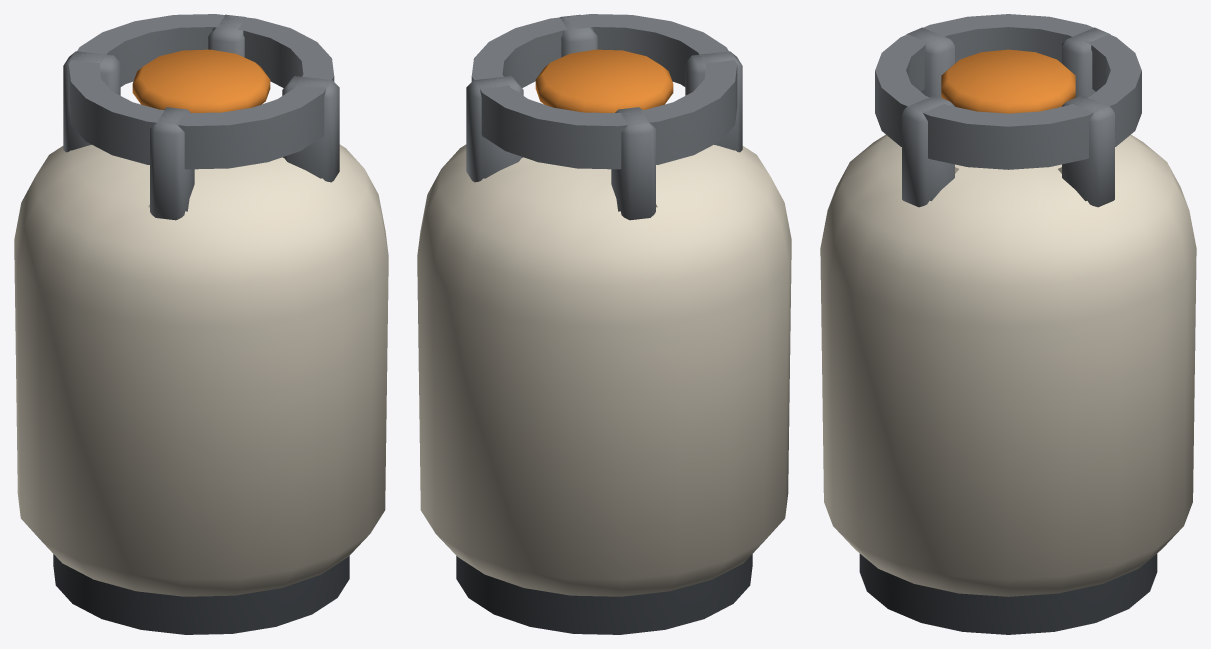
Rendered from SM_PropaneTank_01.glb.
The picture shows the model from 3 angles, left to right: view 1: azimuth 30°, elevation 25°; view 2: azimuth 150°, elevation 25°; view 3: azimuth 270°, elevation 25°; orthographic projection.
Visible parts, largest first — view 1: SM_PropaneTank_01; view 2: SM_PropaneTank_01; view 3: SM_PropaneTank_01.
Part boxes in pixels (x1,y1,x2,y2): SM_PropaneTank_01: [14, 14, 388, 634]; SM_PropaneTank_01: [417, 14, 791, 634]; SM_PropaneTank_01: [820, 14, 1196, 634].
Bounding box in the file's own units: 0.316 × 0.465 × 0.316.
1 material, 1 textured.
